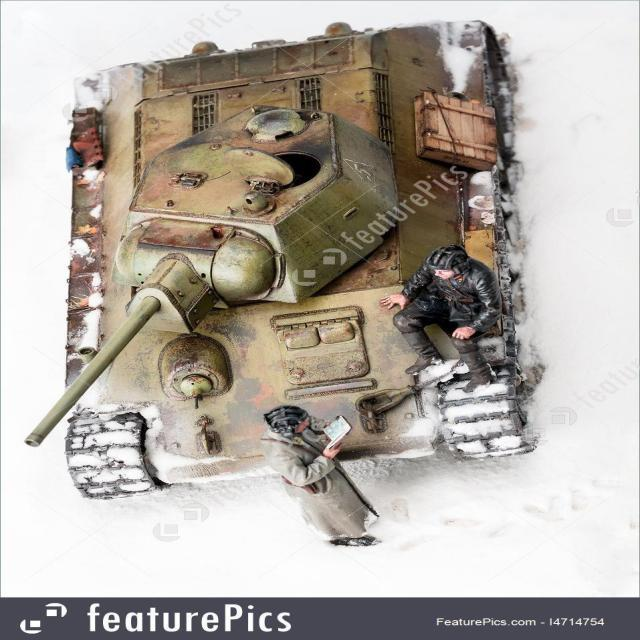MIL_MBT: (32, 33, 578, 443)
